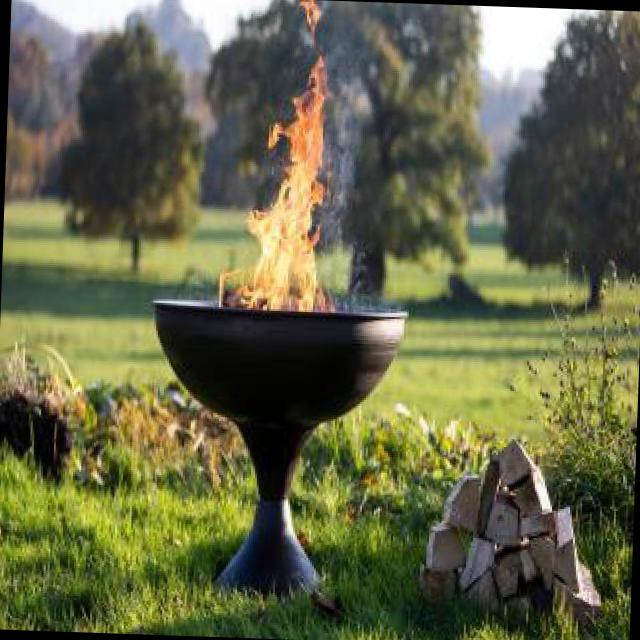Fire: (243, 67, 329, 296)
Smoke: (316, 43, 364, 240), (322, 236, 372, 308)
